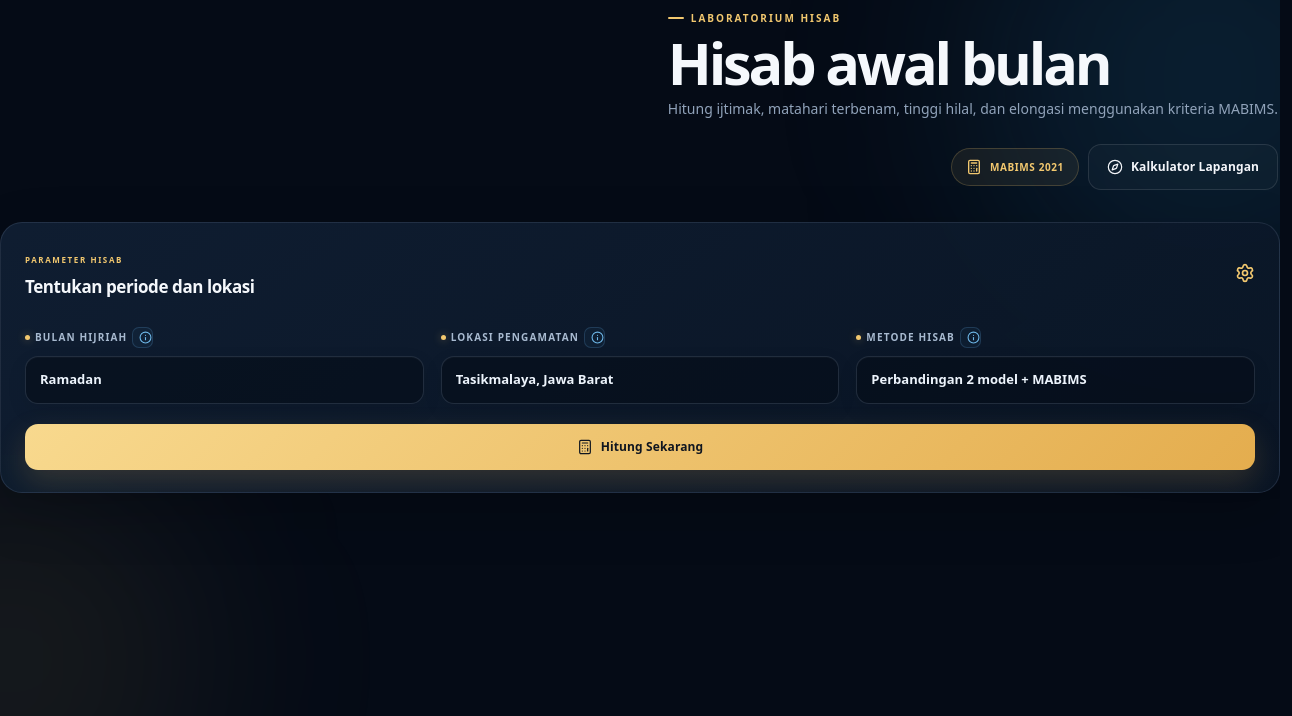
Test: PFI UI smoke tests in Happy DOM › offers GPS and editable manual coordinates as two location methods
The width and height of the screenshot is (1292, 716).
Select "Lokasi khusus…" in the dropdown below "Lokasi Pengamatan" at point(640, 380), box left=441, top=356, right=839, bottom=404
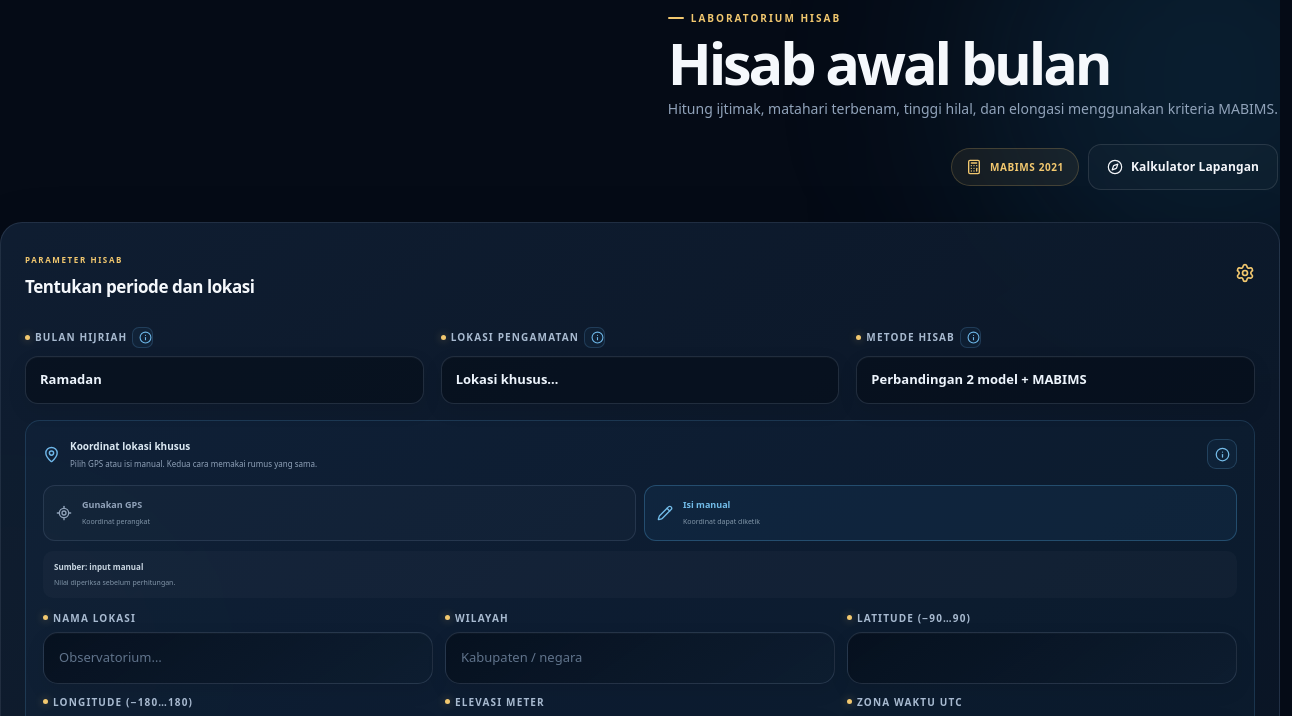
Check: the button "Gunakan GPS Koordinat perangkat" is shown, box left=43, top=485, right=636, bottom=541
Check: the button "Isi manual Koordinat dapat diketik" is shown, box left=644, top=485, right=1237, bottom=541
Check: the text "Sumber: input manual" is shown, box left=54, top=560, right=143, bottom=573
Click the button named "Informasi lokasi".
click(1222, 454)  # box left=1207, top=439, right=1237, bottom=469
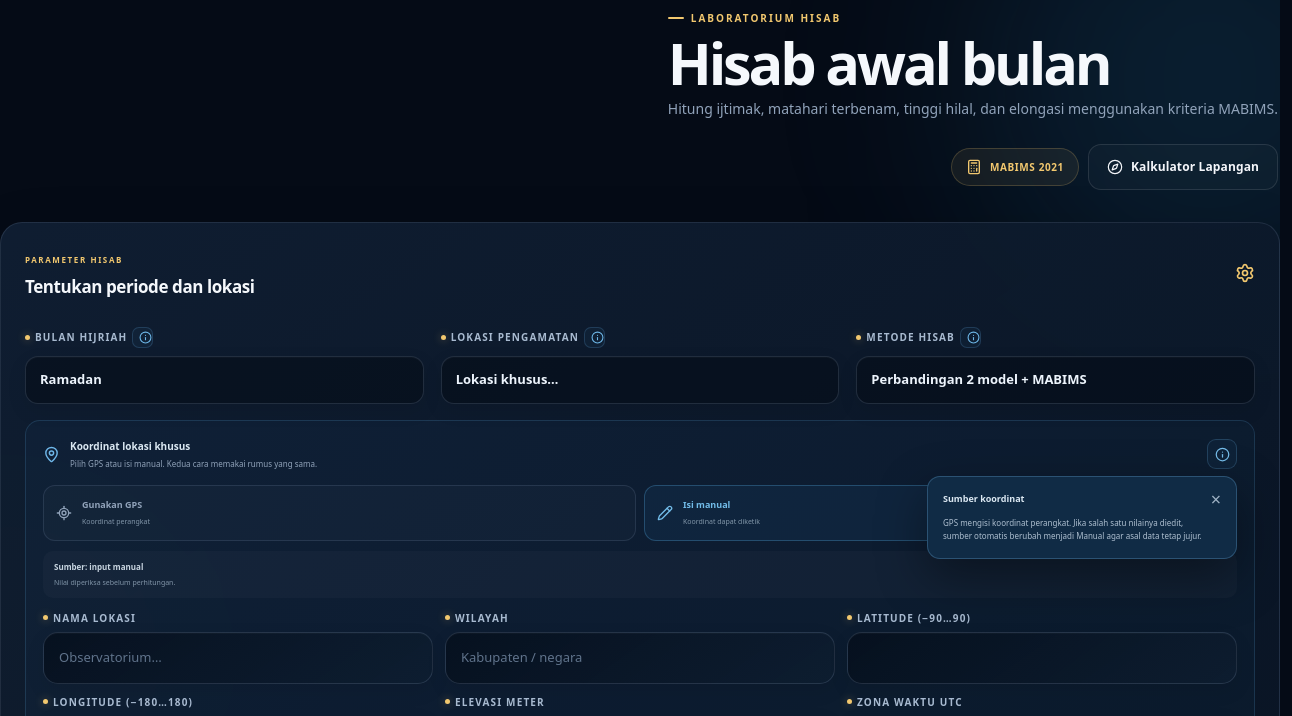
Check: the text "GPS mengisi koordinat perangkat" is shown, box left=943, top=517, right=1202, bottom=541
